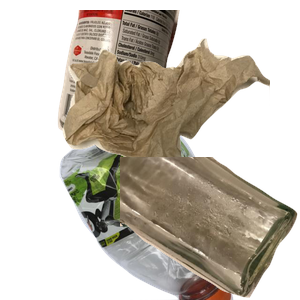glass: (120, 157, 300, 300)
metal: (55, 10, 227, 149)
plastic: (57, 120, 293, 300)
trash: (60, 36, 300, 198)
